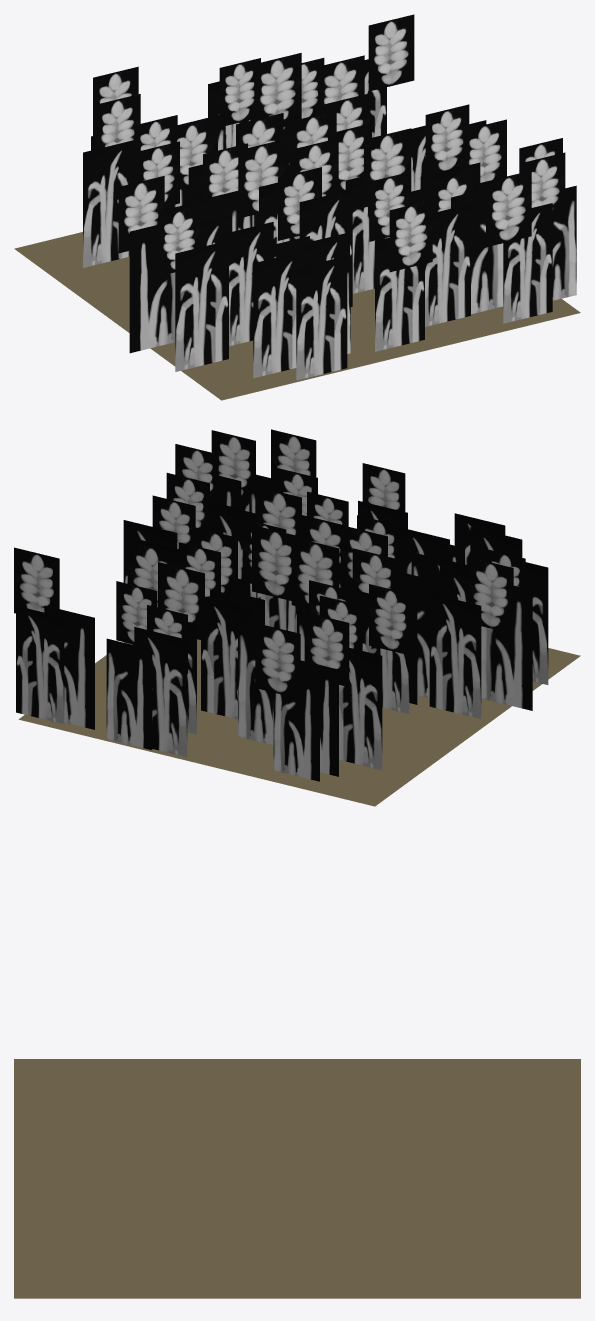
The model's file is wheat.glb.
3 views of the same model, one above another, from view 1: azimuth 30°, elevation 25°; view 2: azimuth 150°, elevation 25°; view 3: azimuth 270°, elevation 25° (orthographic). The views are drawn at different scales.
Parts seen in each view (by area): view 1: Plane.012, Plane.074, Plane.089, Plane.091, Plane.083, Plane.058, Plane.077, Plane.080, Plane.072, Plane.090, Plane.022, Plane.124 (+41 smaller); view 2: Plane.012, Plane.082, Plane.085, Plane.058, Plane.023, Plane.083, Plane.079, Plane.069, Plane.056, Plane.061, Plane.065, Plane.123 (+46 smaller); view 3: Plane.012.
Part boxes in pixels (bbox=[...]): Plane.012: bbox=[14, 232, 580, 400]; Plane.074: bbox=[175, 240, 228, 371]; Plane.089: bbox=[296, 256, 347, 380]; Plane.091: bbox=[253, 251, 305, 378]; Plane.083: bbox=[83, 140, 134, 267]; Plane.058: bbox=[129, 225, 175, 353]; Plane.077: bbox=[425, 204, 470, 326]; Plane.080: bbox=[503, 203, 552, 323]; Plane.072: bbox=[375, 237, 424, 351]; Plane.090: bbox=[222, 222, 273, 346]; Plane.022: bbox=[451, 189, 503, 314]; Plane.124: bbox=[368, 14, 414, 91]; Plane.012: bbox=[18, 639, 580, 806]; Plane.082: bbox=[429, 593, 481, 718]; Plane.085: bbox=[16, 605, 64, 723]; Plane.058: bbox=[481, 586, 532, 710]; Plane.023: bbox=[106, 638, 152, 749]; Plane.083: bbox=[339, 648, 382, 770]; Plane.079: bbox=[134, 627, 187, 757]; Plane.069: bbox=[201, 597, 252, 719]; Plane.056: bbox=[273, 675, 319, 781]; Plane.061: bbox=[44, 605, 94, 729]; Plane.065: bbox=[238, 619, 273, 744]; Plane.123: bbox=[255, 623, 300, 698]; Plane.012: bbox=[14, 1059, 580, 1298].
Bounding box in the file's own units: 2.25 × 0.8545 × 2.
Materials: 3 (2 with a texture image).
